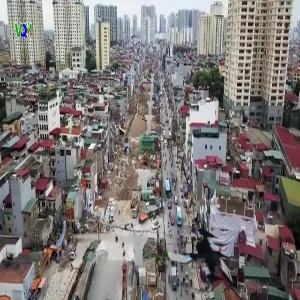drone: (157, 213, 238, 294)
